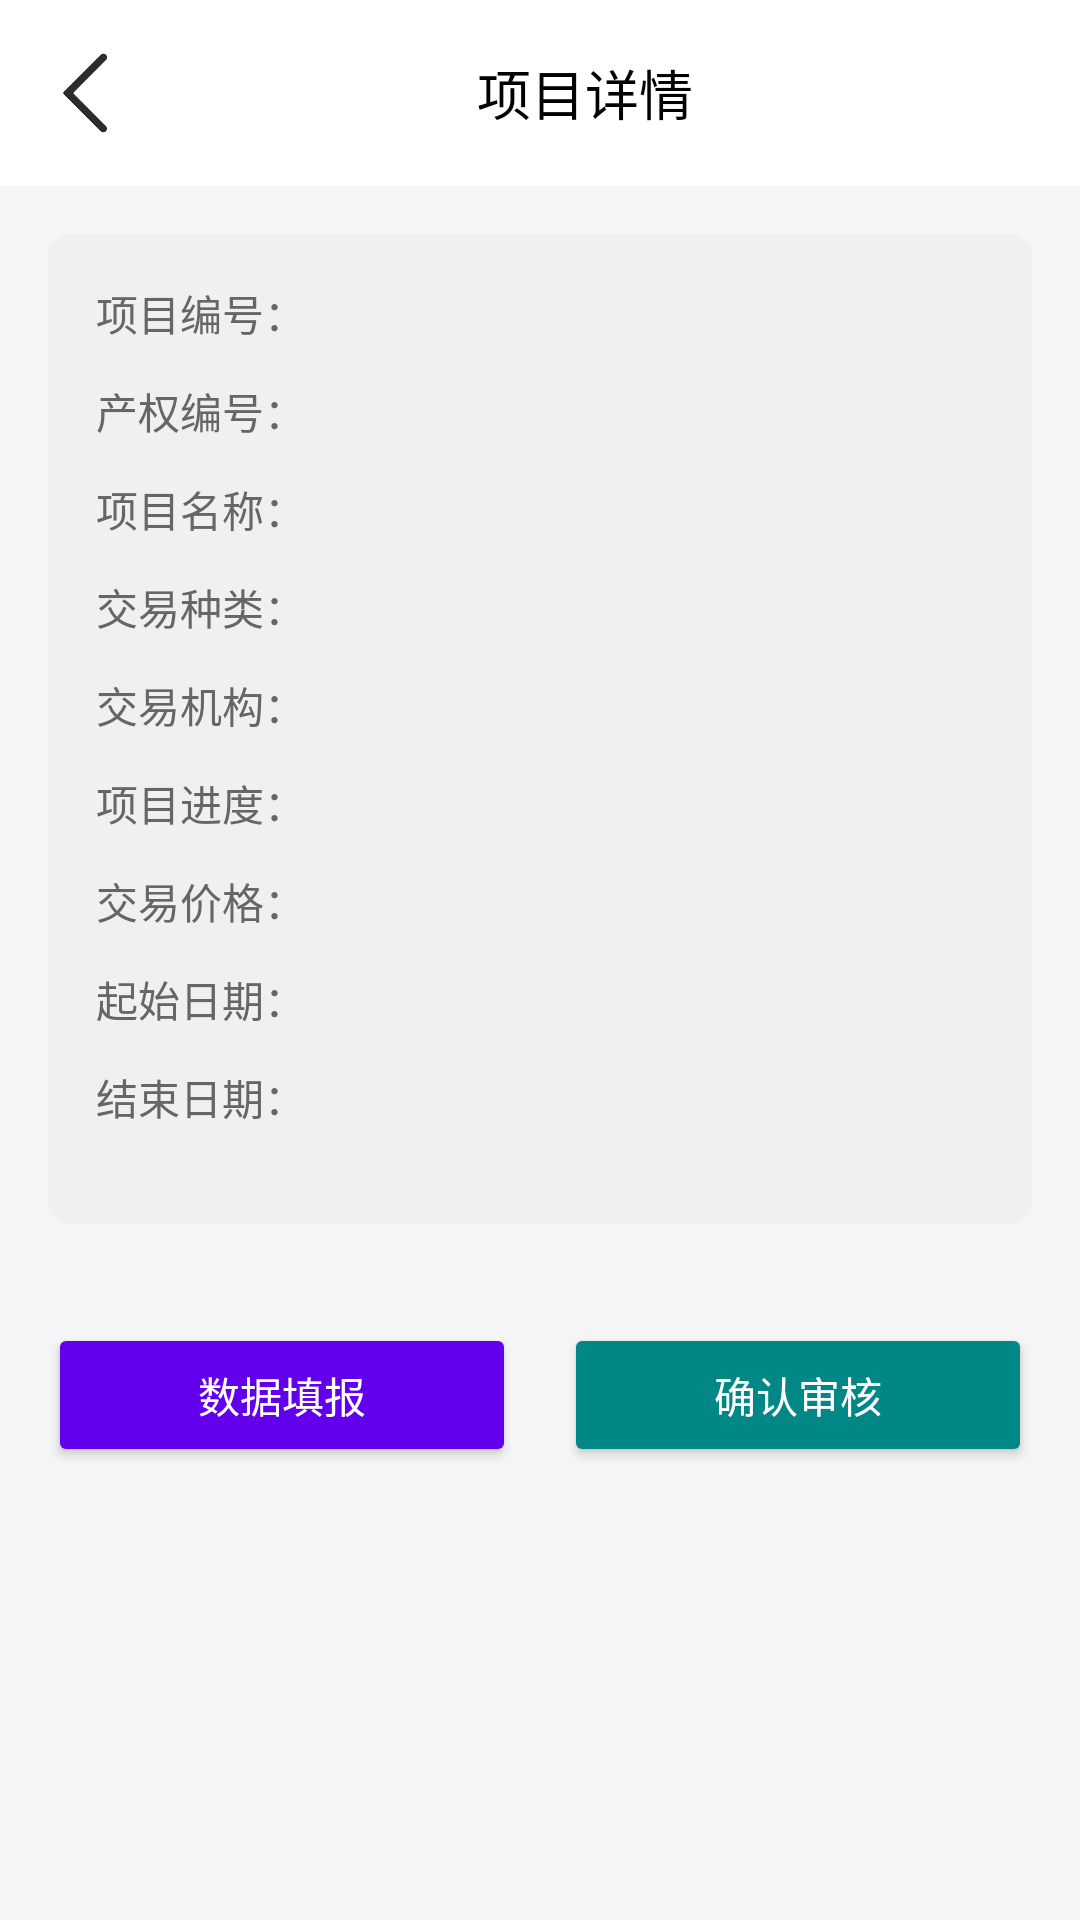

Named icons in this screenshot (1080×1920) and their centers, (x,y):
返回: (85,93)
